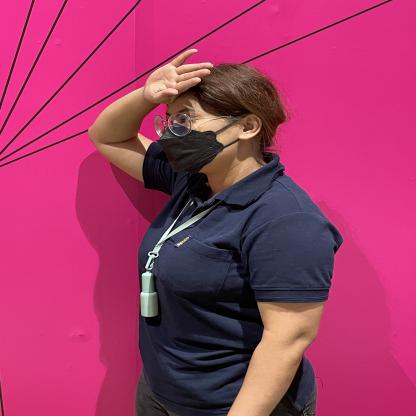Sick: (79, 28, 258, 112)
